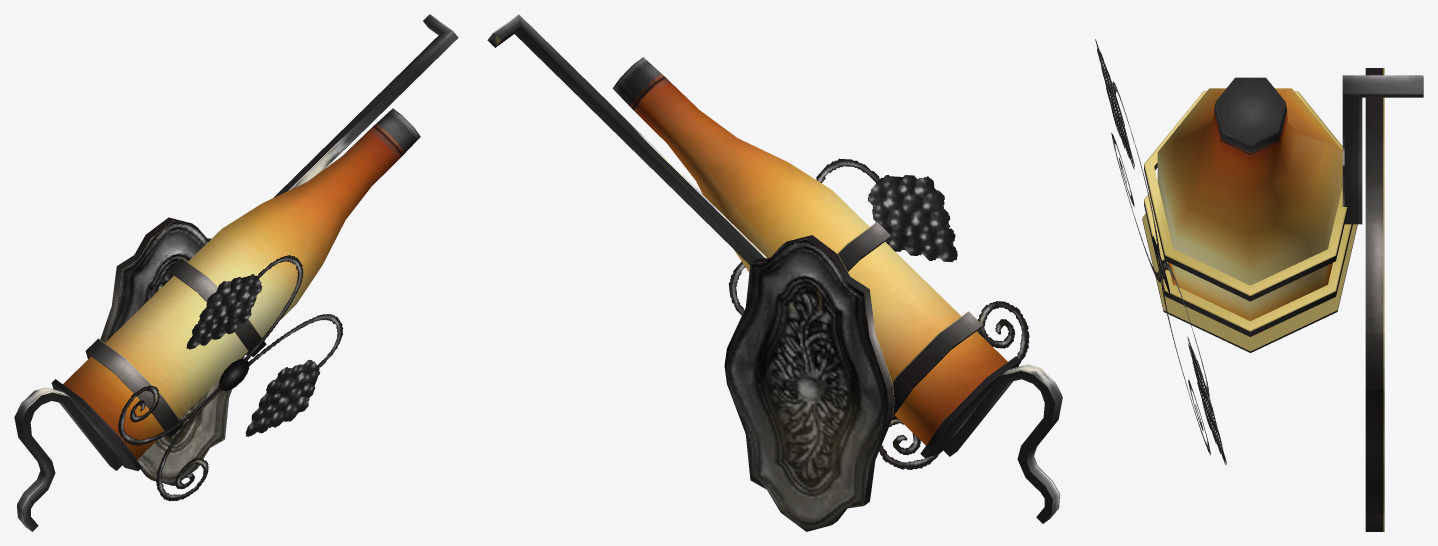
Rendered from furni_0200707.FBX.
The picture shows the model from 3 angles, left to right: view 1: azimuth 30°, elevation 25°; view 2: azimuth 150°, elevation 25°; view 3: azimuth 270°, elevation 25°; orthographic projection. The views are drawn at different scales.
Parts seen in each view (by area): view 1: furni_0200707; view 2: furni_0200707; view 3: furni_0200707.
Part boxes in pixels (x1,y1,x2,y2): furni_0200707: (14, 14, 458, 531); furni_0200707: (487, 14, 1062, 531); furni_0200707: (1095, 39, 1423, 531).
Size of the model in its own units: 61.87 by 50.56 by 21.48.
Materials: 1 (1 with a texture image).
